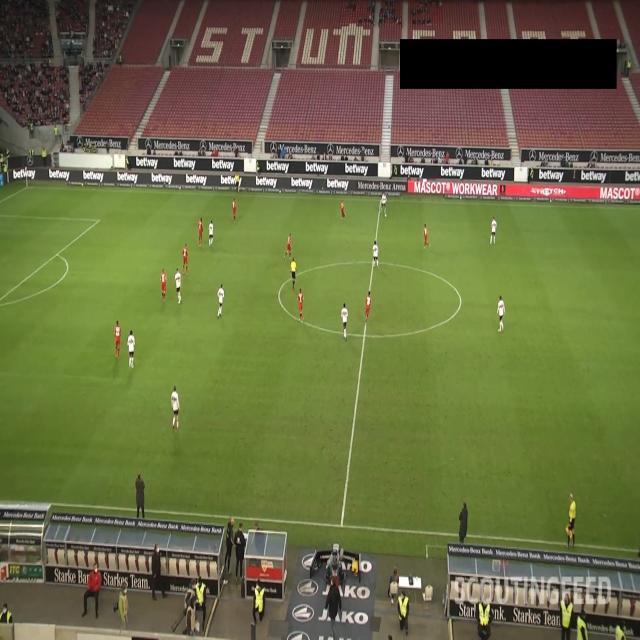ball: (384, 213, 387, 218)
